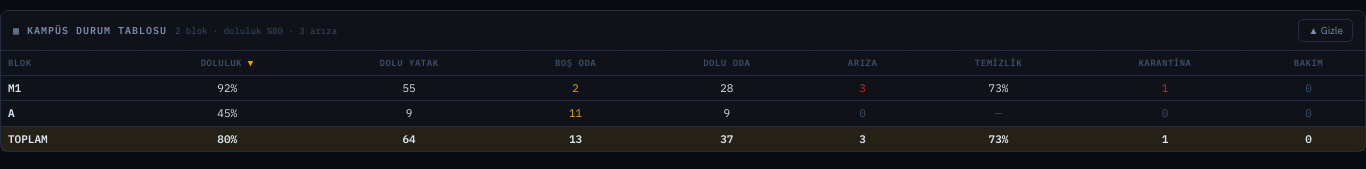
Scenario: CampusOverviewTable › gizle/aç çalışır
Step 1. Click the button "▲ Gizle" → {"x": 1326, "y": 30}, box [1298,19,1353,42]
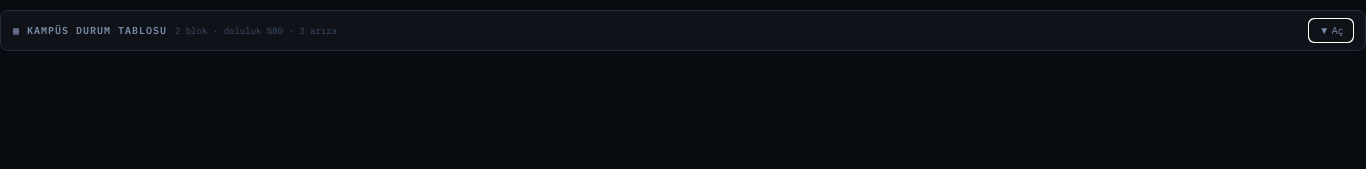
Expected: the text "TOPLAM" is gone
